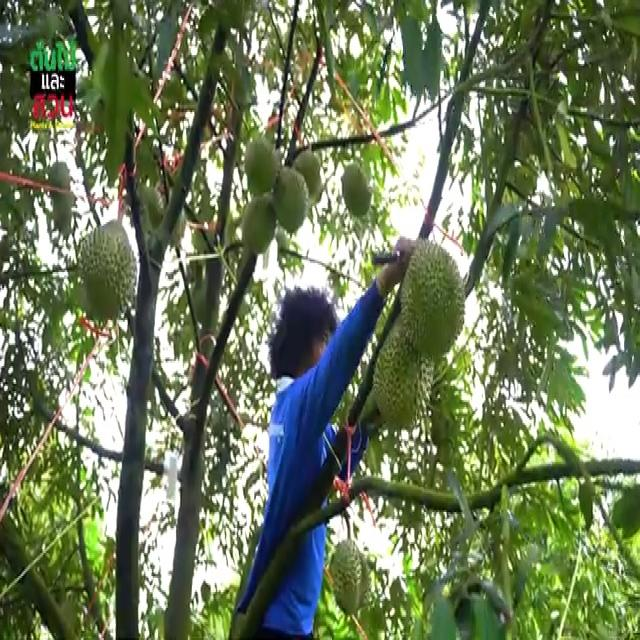durian: (396, 238, 469, 362), (370, 319, 437, 430), (76, 218, 140, 322), (328, 536, 372, 620), (268, 166, 308, 235), (245, 132, 282, 200), (240, 191, 278, 257), (286, 149, 324, 206), (338, 166, 374, 219)
